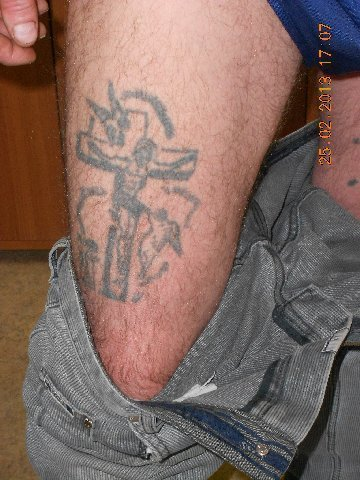tatu9_krest: (76, 89, 207, 287)
